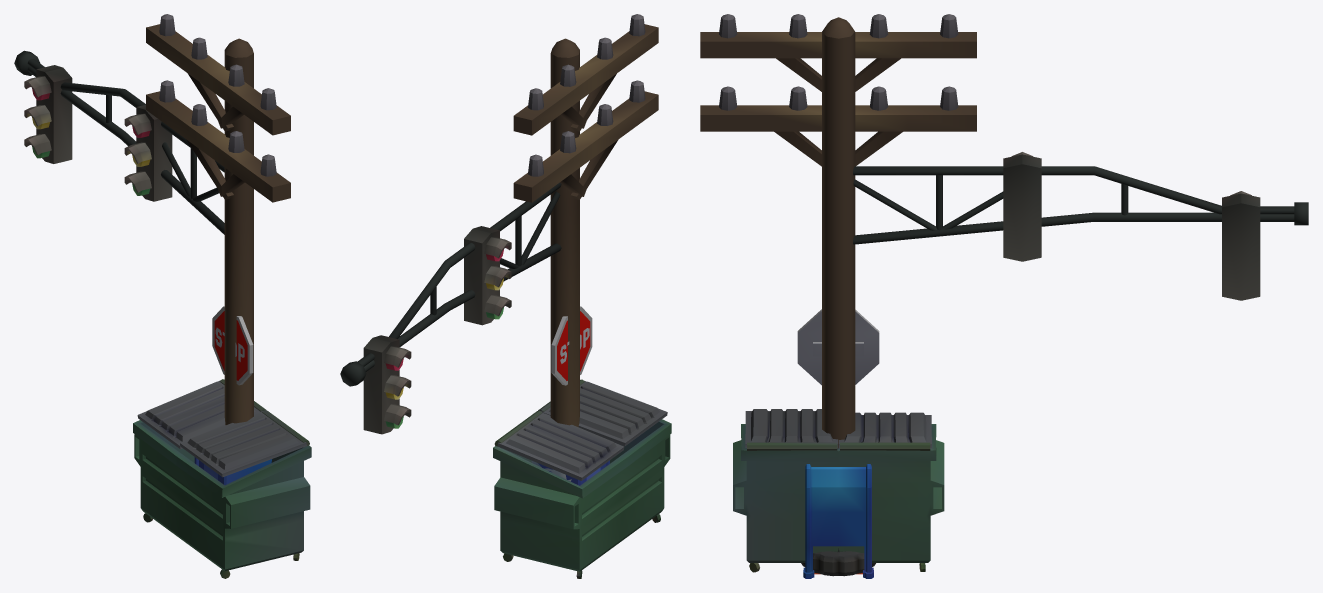
Rendered from CityProps-BatchOne.glb.
The picture shows the model from 3 angles, left to right: view 1: azimuth 30°, elevation 25°; view 2: azimuth 150°, elevation 25°; view 3: azimuth 270°, elevation 25°; orthographic projection. The views are drawn at different scales.
Visible parts, largest first — view 1: TelephonePole, DumpsterBase, TrafficLight, DumpsterLids, StopSign, Mailbox; view 2: TelephonePole, DumpsterBase, TrafficLight, DumpsterLids, StopSign; view 3: TelephonePole, DumpsterBase, TrafficLight, Mailbox, DumpsterLids, StopSign, Tire.
Part boxes in pixels (<box>): TelephonePole: <box>146,14,290,424</box>; DumpsterBase: <box>133,379,311,578</box>; TrafficLight: <box>14,50,224,234</box>; DumpsterLids: <box>137,380,306,477</box>; StopSign: <box>212,306,253,385</box>; Mailbox: <box>194,457,271,484</box>; TelephonePole: <box>513,14,658,427</box>; DumpsterBase: <box>493,379,671,578</box>; TrafficLight: <box>340,182,561,434</box>; DumpsterLids: <box>497,381,667,480</box>; StopSign: <box>551,306,592,385</box>; TelephonePole: <box>700,14,976,448</box>; DumpsterBase: <box>733,424,944,572</box>; TrafficLight: <box>837,152,1308,551</box>; Mailbox: <box>803,464,873,578</box>; DumpsterLids: <box>745,409,931,448</box>; StopSign: <box>797,309,879,385</box>; Tire: <box>801,551,875,576</box>.
Bounding box in the file's own units: 3.33 × 16.69 × 16.9.
